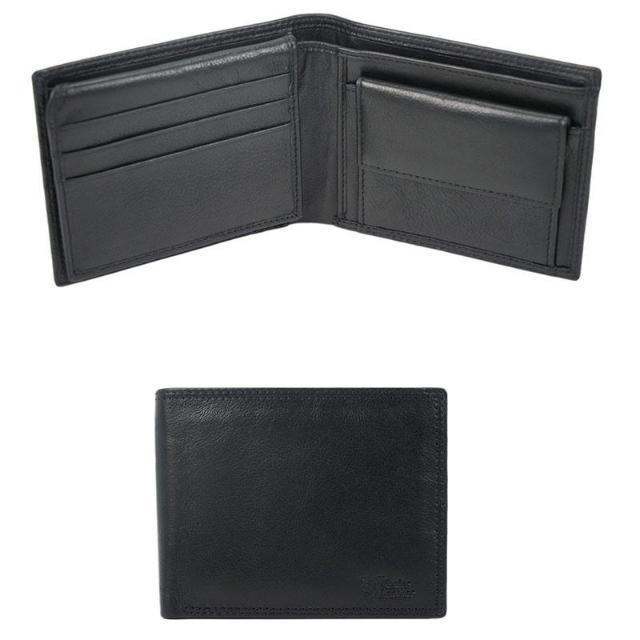Wallet: (29, 9, 603, 285), (149, 381, 451, 621)
